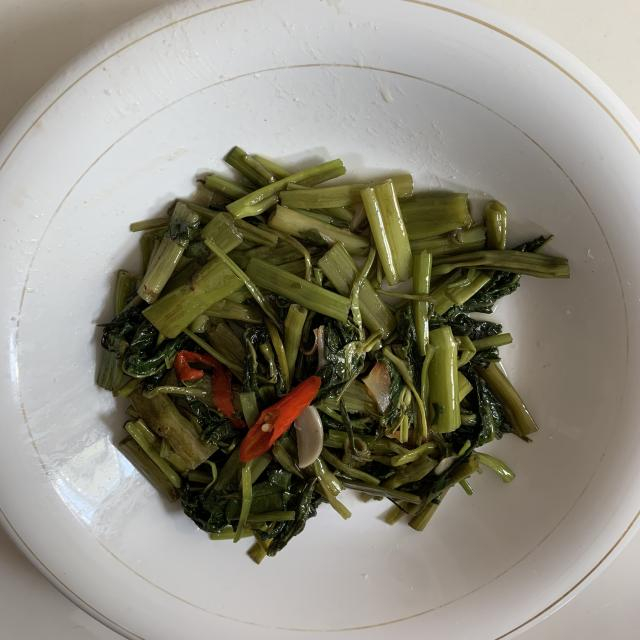Wet Waste: (98, 143, 572, 559)
